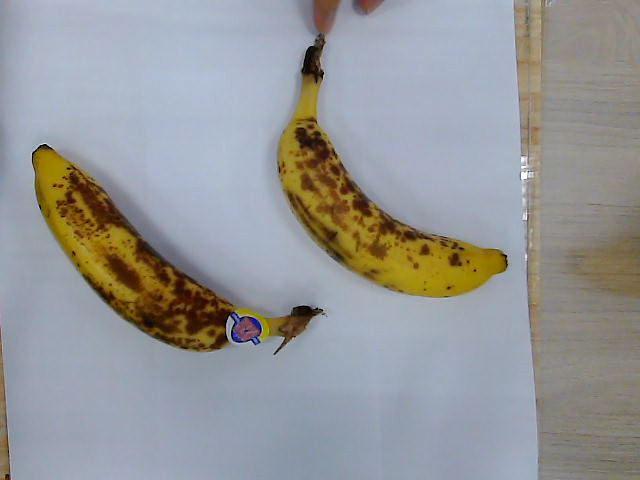rotten_banana: (279, 33, 512, 297), (30, 145, 315, 352)
